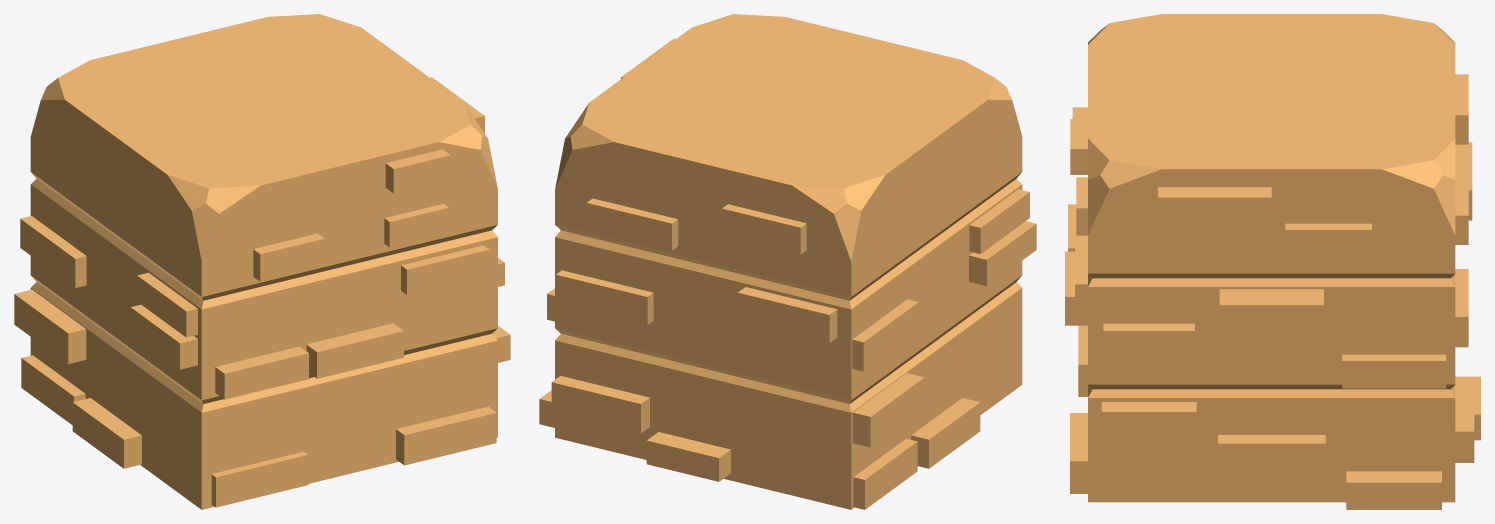
Rendered from 1x1 Wall.fbx.
3 views of the same model, side by side, from view 1: azimuth 30°, elevation 25°; view 2: azimuth 150°, elevation 25°; view 3: azimuth 270°, elevation 25° (orthographic). The views are drawn at different scales.
Parts seen in each view (by area): view 1: 1x1 Wall; view 2: 1x1 Wall; view 3: 1x1 Wall.
Boxes of the visible parts, x1=… form: 1x1 Wall: x1=14, y1=14, x2=510, y2=509; 1x1 Wall: x1=539, y1=14, x2=1036, y2=509; 1x1 Wall: x1=1065, y1=14, x2=1480, y2=509.
Size of the model in its own units: 116 by 100 by 113.
